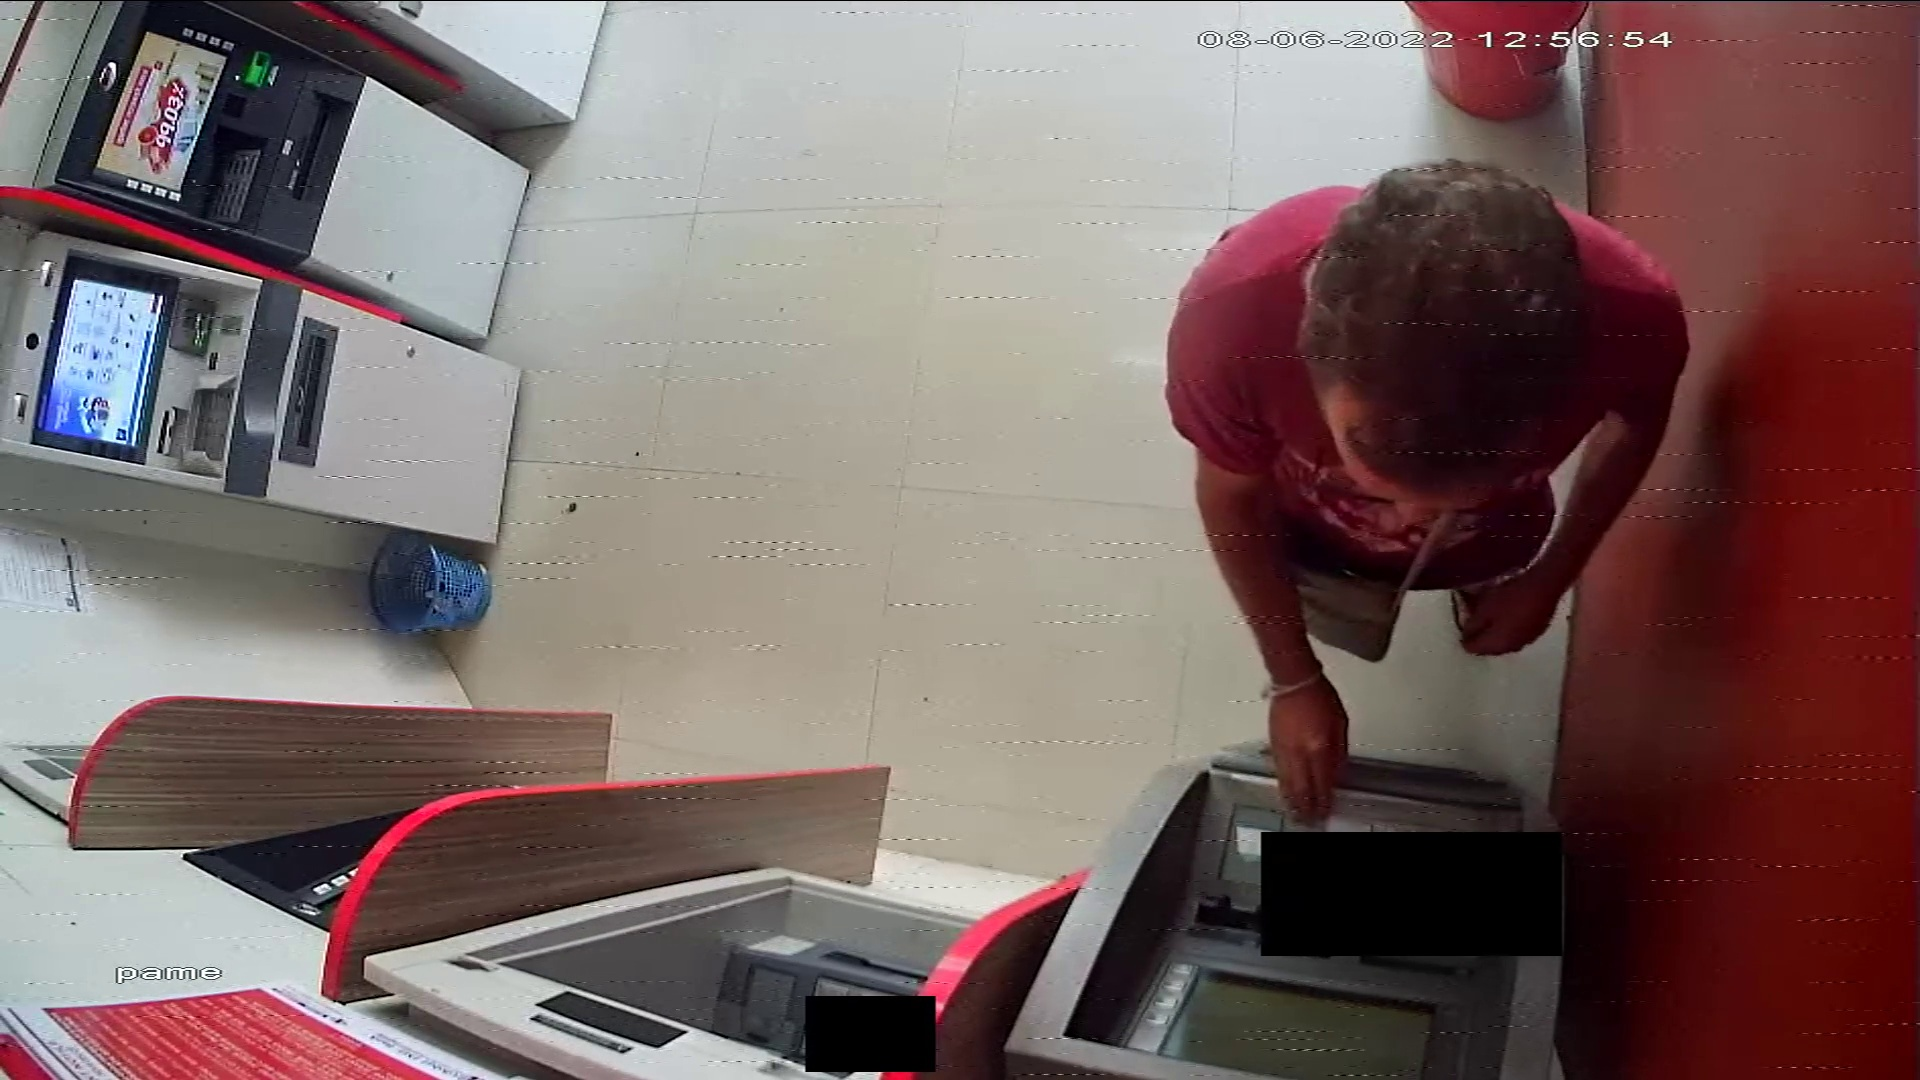person: (1168, 148, 1692, 824)
